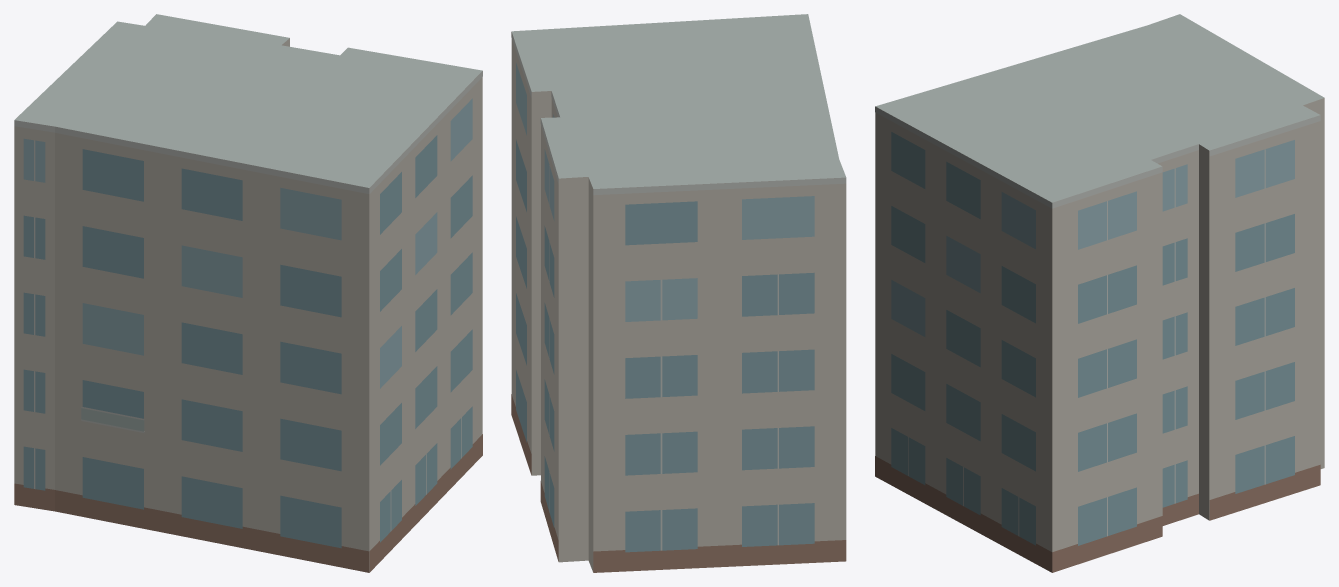
Rendered from survey-upis-32744858.glb.
3 views of the same model, side by side, from view 1: azimuth 30°, elevation 25°; view 2: azimuth 150°, elevation 25°; view 3: azimuth 270°, elevation 25° (orthographic). The views are drawn at different scales.
Visible parts, largest first — view 1: survey-upis-32744858.tmp; view 2: survey-upis-32744858.tmp; view 3: survey-upis-32744858.tmp.
Boxes of the visible parts, x1,y1,x2,y2 form: survey-upis-32744858.tmp: (14,14,482,572); survey-upis-32744858.tmp: (511,14,846,572); survey-upis-32744858.tmp: (875,14,1324,572).
Bounding box in the file's own units: 16.69 × 15.25 × 16.8.
